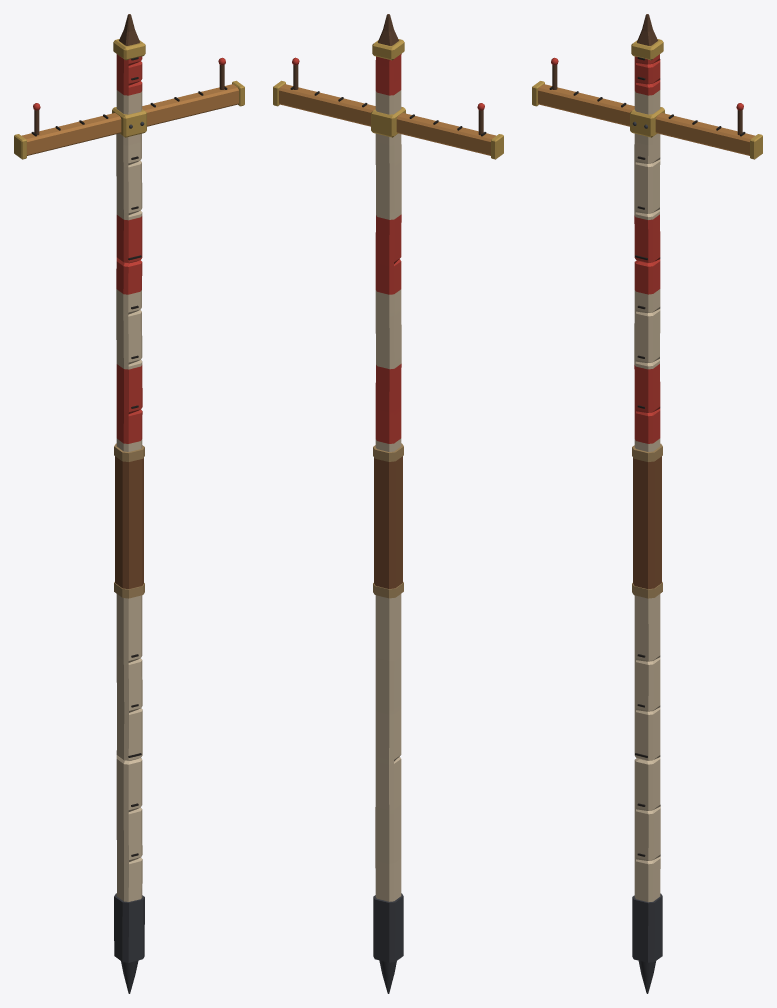
The model's file is tool_measuringstaff.fbx.
3 views of the same model, side by side, from view 1: azimuth 30°, elevation 25°; view 2: azimuth 150°, elevation 25°; view 3: azimuth 330°, elevation 25° (orthographic).
Parts seen in each view (by area): view 1: Tool_MeasuringStaff_Staff, Tool_MeasuringStaff_Crossbar, Tool_MeasuringStaff_Sleeve, Tool_MeasuringStaff_Shoe, Tool_MeasuringStaff_Brass; view 2: Tool_MeasuringStaff_Staff, Tool_MeasuringStaff_Crossbar, Tool_MeasuringStaff_Sleeve, Tool_MeasuringStaff_Shoe, Tool_MeasuringStaff_Brass; view 3: Tool_MeasuringStaff_Staff, Tool_MeasuringStaff_Crossbar, Tool_MeasuringStaff_Sleeve, Tool_MeasuringStaff_Shoe, Tool_MeasuringStaff_Brass.
Part boxes in pixels (left/top/right/bottom): Tool_MeasuringStaff_Staff: left=116, top=54, right=142, bottom=901; Tool_MeasuringStaff_Crossbar: left=21, top=57, right=238, bottom=155; Tool_MeasuringStaff_Sleeve: left=114, top=443, right=144, bottom=598; Tool_MeasuringStaff_Shoe: left=114, top=893, right=144, bottom=993; Tool_MeasuringStaff_Brass: left=14, top=14, right=244, bottom=159; Tool_MeasuringStaff_Staff: left=375, top=54, right=401, bottom=901; Tool_MeasuringStaff_Crossbar: left=279, top=57, right=495, bottom=155; Tool_MeasuringStaff_Sleeve: left=373, top=443, right=403, bottom=598; Tool_MeasuringStaff_Shoe: left=373, top=893, right=403, bottom=993; Tool_MeasuringStaff_Brass: left=273, top=14, right=503, bottom=159; Tool_MeasuringStaff_Staff: left=634, top=54, right=660, bottom=902; Tool_MeasuringStaff_Crossbar: left=538, top=57, right=755, bottom=155; Tool_MeasuringStaff_Sleeve: left=632, top=443, right=662, bottom=598; Tool_MeasuringStaff_Shoe: left=632, top=893, right=662, bottom=993; Tool_MeasuringStaff_Brass: left=532, top=14, right=762, bottom=159.
Bounding box in the file's own units: 47 × 197 × 5.4.
